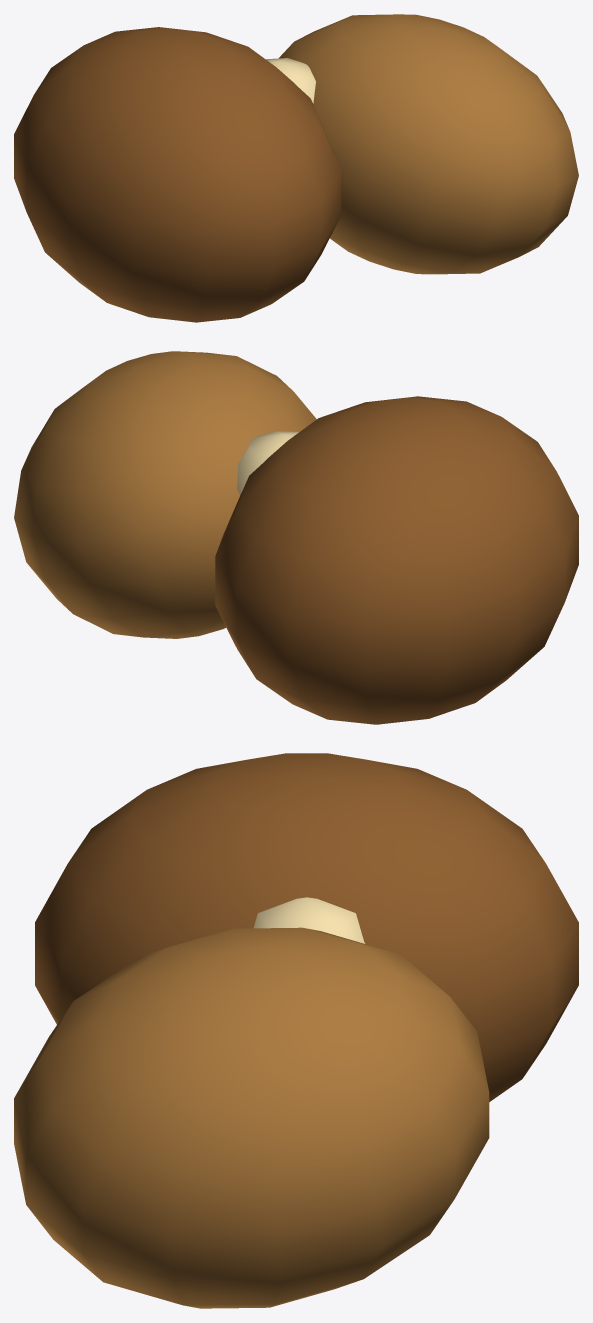
Rendered from semente.glb.
3 renders of one model, top to bottom at view 1: azimuth 30°, elevation 25°; view 2: azimuth 150°, elevation 25°; view 3: azimuth 270°, elevation 25°, orthographic. The views are drawn at different scales.
Visible parts, largest first — view 1: semente; view 2: semente; view 3: semente.
Boxes of the visible parts, x1,y1,x2,y2 form: semente: (14,14,578,322); semente: (14,351,578,724); semente: (14,753,578,1308).
Size of the model in its own units: 0.2815 by 0.144 by 0.2045.
